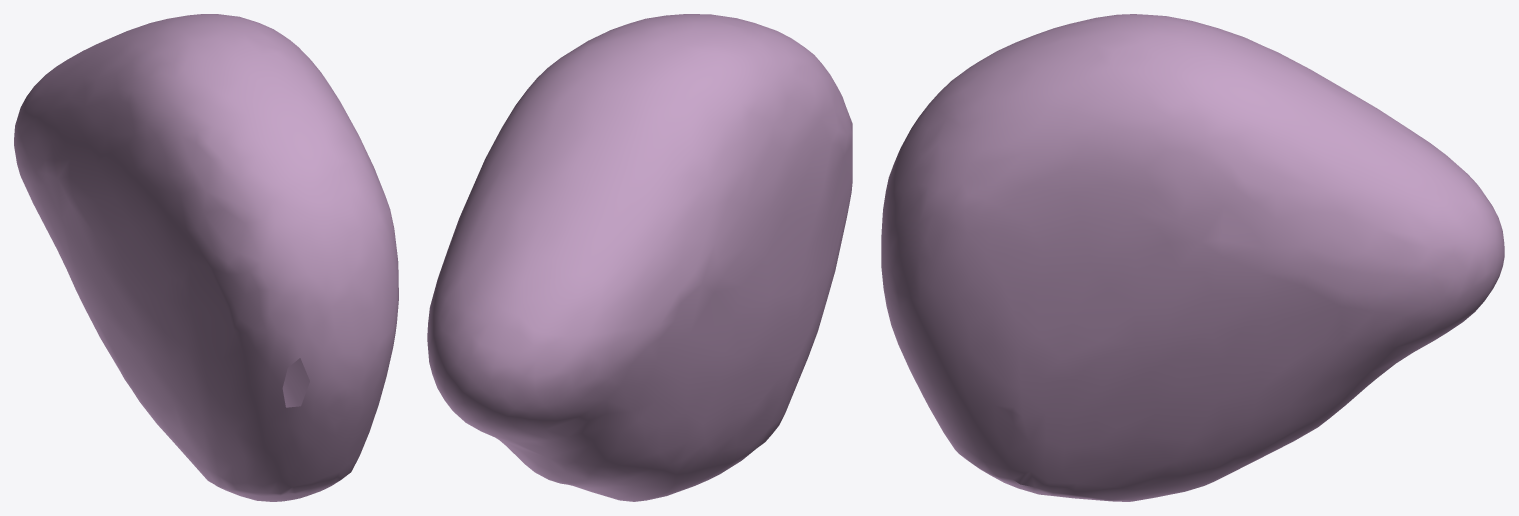
The picture shows the model from 3 angles, left to right: view 1: azimuth 30°, elevation 25°; view 2: azimuth 150°, elevation 25°; view 3: azimuth 270°, elevation 25°; orthographic projection. The views are drawn at different scales.
Parts seen in each view (by area): view 1: 山顶; view 2: 山顶; view 3: 山顶.
Part boxes in pixels (x1,y1,x2,y2): 山顶: [14, 14, 398, 501]; 山顶: [427, 14, 852, 501]; 山顶: [881, 14, 1504, 501].
Bounding box in the file's own units: 0.0153 × 0.0284 × 0.0352.
